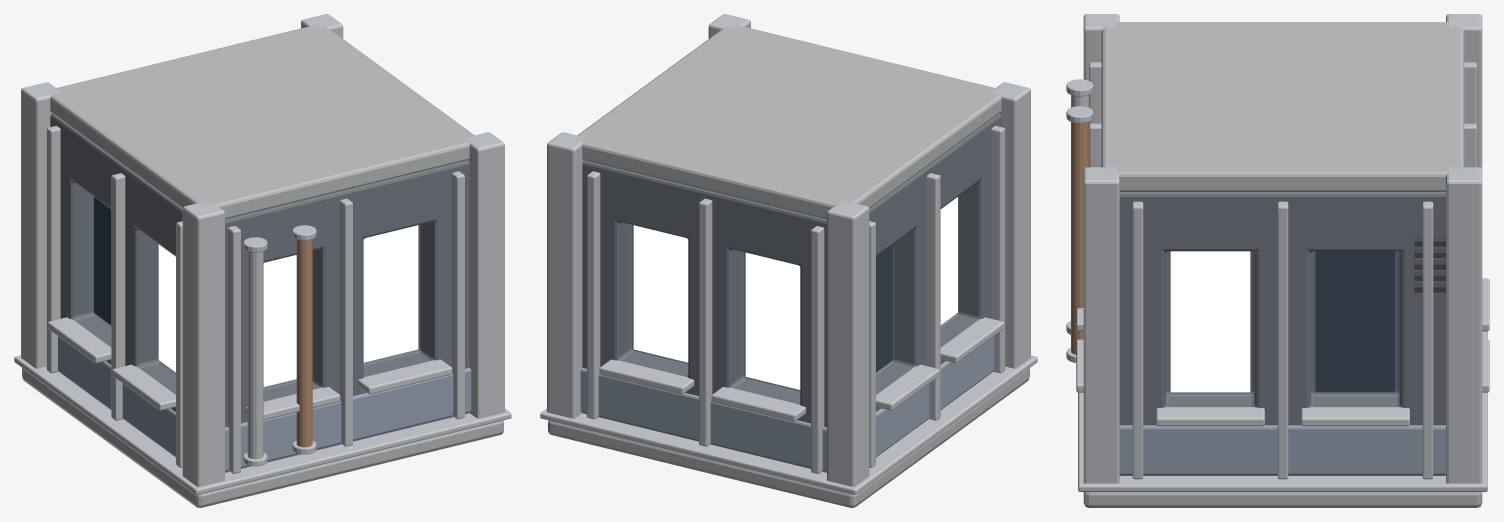
The model's file is office2.glb.
3 renders of one model, left to right at view 1: azimuth 30°, elevation 25°; view 2: azimuth 150°, elevation 25°; view 3: azimuth 270°, elevation 25°, orthographic. The views are drawn at different scales.
Visible parts, largest first — view 1: int_ceiling, ext_wall, int_columns, ext_frames, ext_panes_lit, ext_spandrel, int_slab_edge, int_slab, ext_pipe0, ext_pipe1, ext_panes_dark; view 2: int_ceiling, ext_wall, int_columns, ext_frames, ext_panes_lit, ext_spandrel, int_slab_edge, int_slab, ext_panes_dark; view 3: int_ceiling, ext_wall, int_columns, ext_frames, ext_spandrel, ext_panes_lit, ext_panes_dark, int_slab_edge, int_slab, ext_pipe1, ext_vent.
Boxes of the visible parts, <box> form: int_ceiling: <box>47,24,478,219</box>; ext_wall: <box>50,113,469,472</box>; int_columns: <box>21,14,504,486</box>; ext_frames: <box>46,125,464,473</box>; ext_panes_lit: <box>158,225,418,386</box>; ext_spandrel: <box>58,336,471,471</box>; int_slab_edge: <box>14,355,511,494</box>; int_slab: <box>22,368,503,507</box>; ext_pipe0: <box>247,251,263,459</box>; ext_pipe1: <box>296,239,312,447</box>; ext_panes_dark: <box>94,197,111,324</box>; int_ceiling: <box>573,24,1001,219</box>; ext_wall: <box>582,113,1001,472</box>; int_columns: <box>547,14,1030,486</box>; ext_frames: <box>587,125,1005,473</box>; ext_panes_lit: <box>633,197,957,389</box>; ext_spandrel: <box>580,336,993,471</box>; int_slab_edge: <box>540,355,1037,494</box>; int_slab: <box>548,368,1029,507</box>; ext_panes_dark: <box>876,244,893,372</box>; int_ceiling: <box>1101,22,1464,191</box>; ext_wall: <box>1119,192,1445,475</box>; int_columns: <box>1083,14,1482,483</box>; ext_frames: <box>1076,62,1489,479</box>; ext_spandrel: <box>1119,425,1445,474</box>; ext_panes_lit: <box>1170,251,1250,392</box>; ext_panes_dark: <box>1315,251,1395,392</box>; int_slab_edge: <box>1078,331,1487,491</box>; int_slab: <box>1083,492,1482,507</box>; ext_pipe1: <box>1071,122,1088,354</box>; ext_vent: <box>1414,237,1445,292</box>.
Bounding box in the file's own units: 2.28 × 2 × 2.33.
